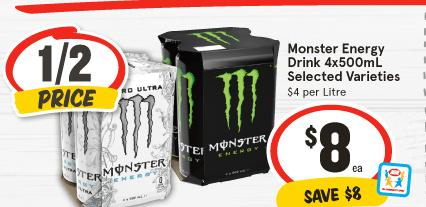description_block: (283, 38, 403, 85)
price_main: (277, 107, 388, 178)
product_image_block: (112, 25, 279, 190)
promo_text_block: (272, 180, 392, 206)
unit_price_block: (284, 86, 355, 102)
